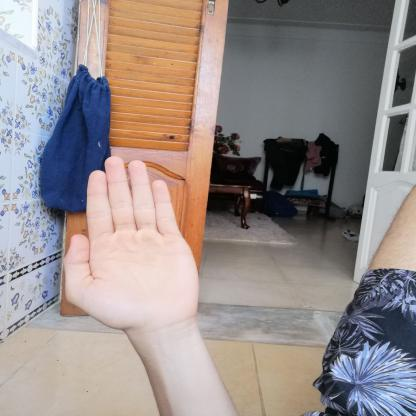SEEN: (55, 148, 208, 337)
